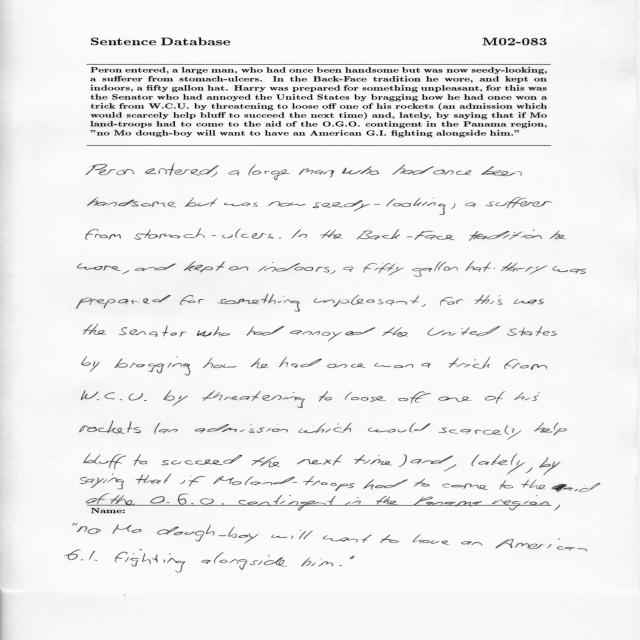word: (87, 495, 552, 505), (87, 495, 552, 505), (87, 495, 552, 505), (87, 495, 552, 505), (87, 495, 552, 505), (87, 495, 552, 505), (313, 198, 446, 215), (202, 391, 305, 408), (135, 228, 274, 240), (245, 476, 355, 491), (115, 357, 190, 376), (218, 294, 300, 311), (77, 295, 171, 309), (290, 327, 375, 342), (314, 295, 419, 307), (438, 425, 521, 440), (86, 493, 189, 505), (471, 454, 525, 475), (356, 230, 455, 241), (145, 163, 219, 176), (88, 198, 176, 208), (469, 229, 542, 241), (195, 424, 288, 433), (119, 325, 187, 337), (162, 455, 243, 465), (80, 421, 141, 434), (412, 261, 458, 277), (486, 198, 552, 209), (428, 326, 500, 336), (82, 390, 147, 401), (259, 262, 330, 272), (80, 474, 124, 490), (248, 165, 290, 181), (84, 454, 126, 469), (368, 423, 430, 433), (501, 262, 547, 275), (299, 423, 352, 433), (86, 164, 134, 175), (364, 263, 404, 276), (507, 326, 557, 336), (297, 455, 342, 466), (449, 357, 490, 369), (364, 479, 408, 490), (279, 357, 322, 368), (504, 359, 547, 370), (534, 422, 567, 436), (184, 261, 225, 272), (552, 483, 601, 492), (392, 165, 434, 175), (481, 166, 522, 176), (345, 392, 386, 402), (163, 390, 188, 406), (398, 392, 431, 404), (410, 456, 453, 465), (86, 229, 121, 240), (136, 473, 171, 484), (247, 326, 285, 336), (354, 455, 392, 465), (539, 458, 560, 476), (197, 326, 230, 337), (203, 357, 236, 368), (78, 263, 121, 271), (342, 166, 379, 175), (185, 197, 218, 207), (135, 264, 176, 272), (442, 483, 488, 490), (252, 456, 280, 467), (465, 261, 491, 272), (552, 266, 587, 274), (474, 295, 502, 305), (180, 476, 205, 487), (82, 357, 100, 372), (383, 327, 409, 337), (83, 324, 106, 335), (485, 392, 506, 404), (214, 476, 242, 485), (180, 295, 205, 305), (521, 480, 546, 490), (374, 363, 413, 369), (514, 392, 540, 401), (268, 201, 305, 207), (299, 169, 334, 175), (320, 230, 343, 239), (438, 396, 472, 402), (327, 364, 366, 369), (440, 297, 464, 305), (433, 170, 471, 175), (251, 358, 269, 368), (224, 202, 258, 207), (134, 454, 147, 466), (514, 299, 544, 304), (292, 230, 307, 239), (414, 478, 429, 487), (319, 391, 332, 401), (550, 231, 566, 239), (500, 480, 514, 489), (398, 455, 407, 467), (444, 464, 456, 472), (229, 266, 248, 271), (159, 429, 178, 433), (155, 423, 161, 434), (229, 171, 240, 176), (465, 203, 476, 208), (343, 267, 354, 272), (421, 363, 431, 368), (526, 467, 533, 473), (212, 171, 218, 177), (122, 270, 129, 274), (451, 203, 455, 209), (330, 270, 336, 274), (329, 175, 333, 178), (422, 304, 426, 307), (278, 237, 281, 239), (536, 495, 538, 496), (494, 268, 495, 269)
